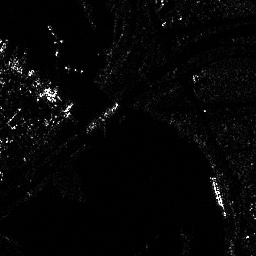ship: (87, 100, 121, 130), (209, 175, 226, 208)
